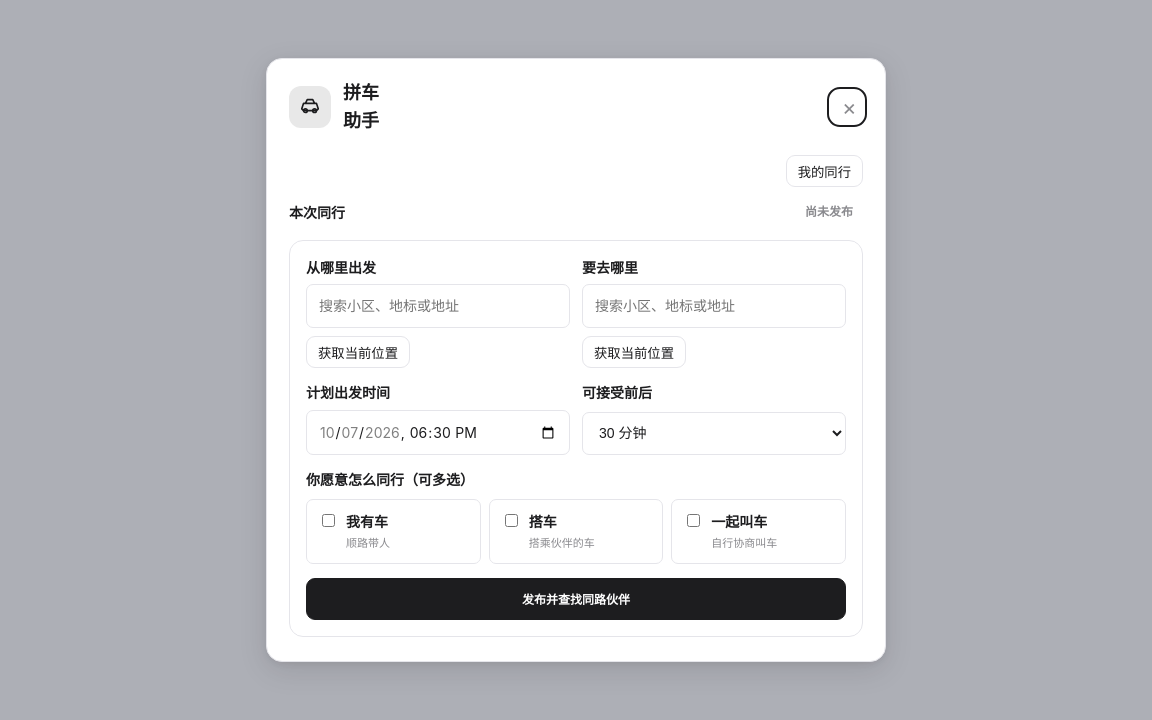
Scenario: 拼车助手界面 › waits for Chinese composition and confirms a suggestion with the keyboard
This screenshot has width=1152, height=720.
In the dropdown named "从哪里出发搜索": x=438, y=306 [306,284,570,328], type "北控"
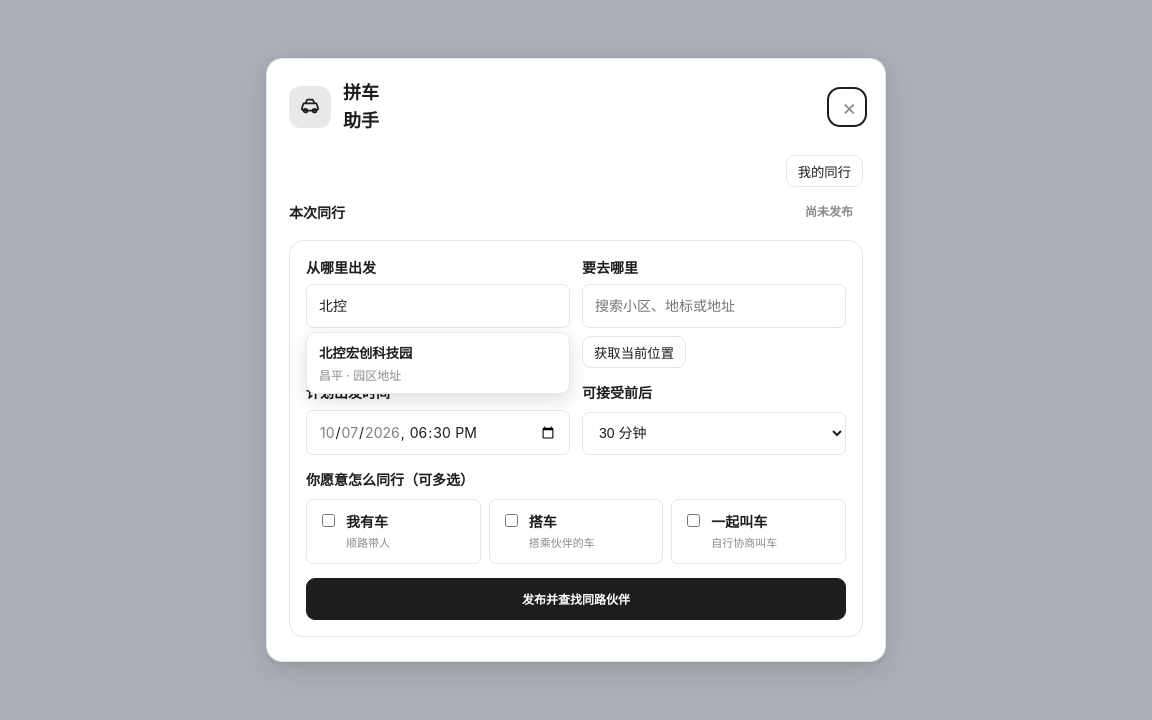
Expected: the option "北控宏创科技园 昌平 · 园区地址" is shown, [307,333,569,393]
Press ArrowDown in the dropdown named "从哪里出发搜索", box [306,284,570,328]
Press Enter in the dropdown named "从哪里出发搜索", box [306,284,570,328]
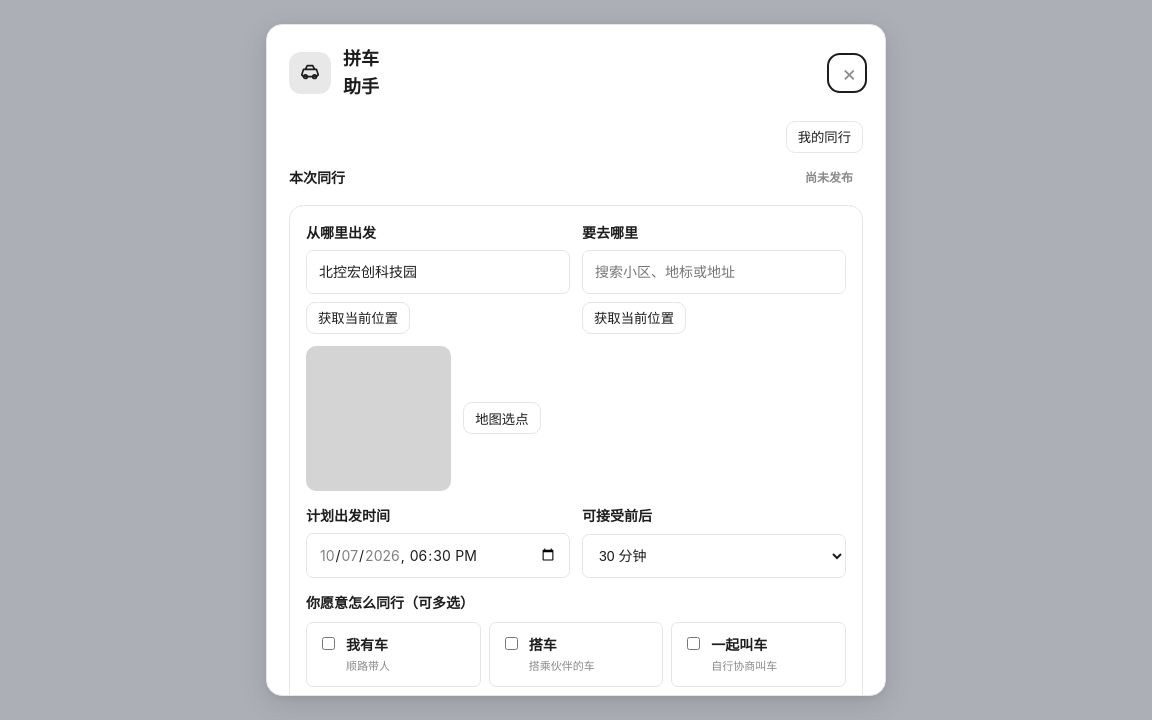
Expected: the dropdown named "从哪里出发搜索" holds "北控宏创科技园"
Replace the text in the dropdown named "从哪里出发搜索" with "北控新": x=438, y=272 [306,250,570,294]
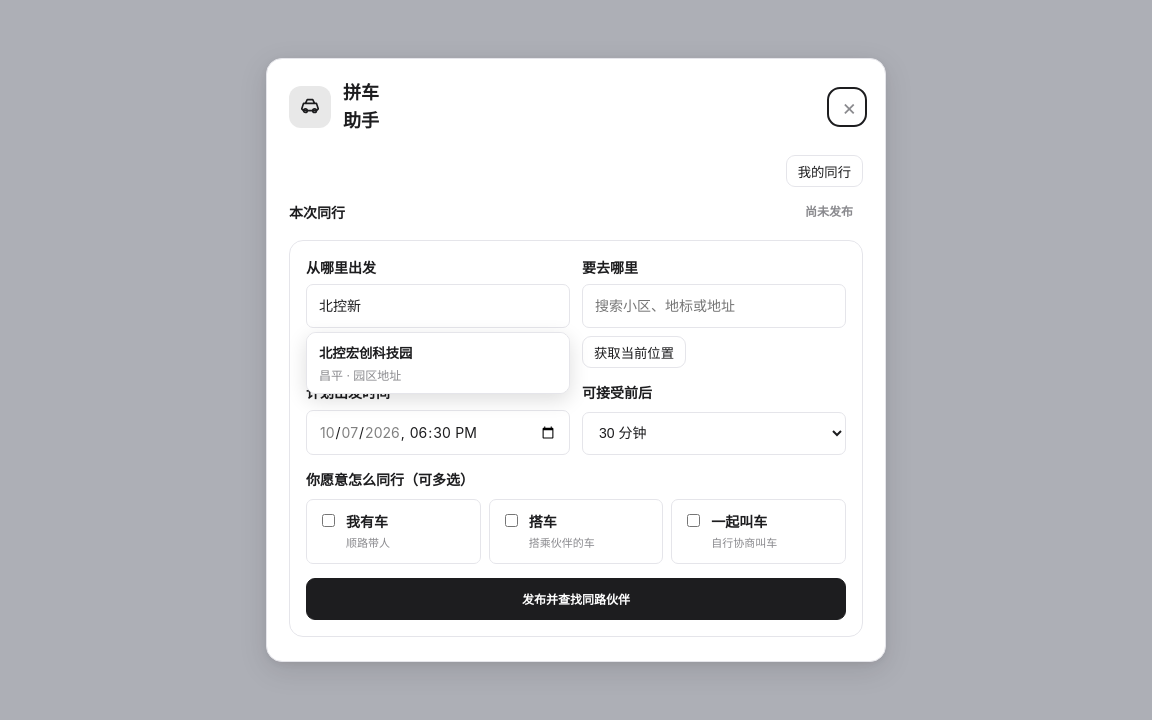
Expected: the picture with alt text "所选地点地图" is gone
